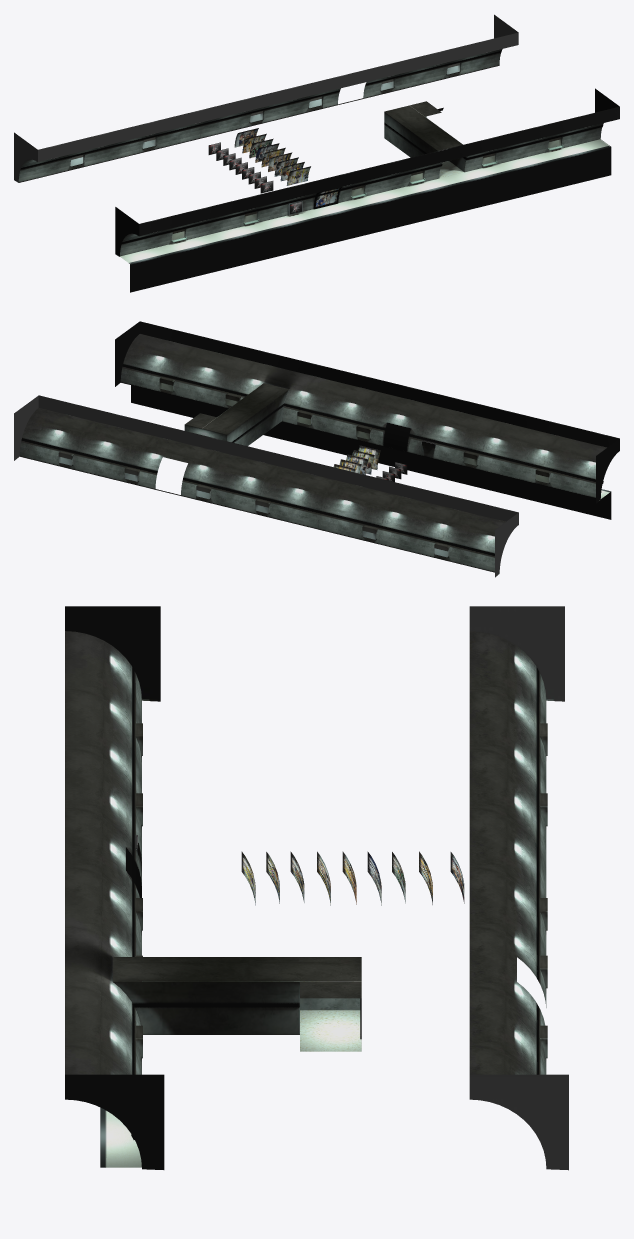
File: anden.gltf
3 views of the same model, one above another, from view 1: azimuth 30°, elevation 25°; view 2: azimuth 150°, elevation 25°; view 3: azimuth 270°, elevation 25° (orthographic). The views are drawn at different scales.
Visible parts, largest first — view 1: anden, pared-sin-cartel, pared, pasillo, soportes; view 2: pared-sin-cartel, pared, anden, pasillo; view 3: pared-sin-cartel, pared, pasillo, anden.
Part boxes in pixels (bbox=[...]): anden: bbox=[120, 139, 611, 292]; pared-sin-cartel: bbox=[14, 14, 518, 182]; pared: bbox=[115, 88, 619, 256]; pasillo: bbox=[384, 101, 467, 178]; soportes: bbox=[121, 107, 603, 243]; pared-sin-cartel: bbox=[14, 395, 518, 577]; pared: bbox=[115, 321, 619, 503]; anden: bbox=[131, 385, 611, 519]; pasillo: bbox=[184, 383, 288, 446]; pared-sin-cartel: bbox=[469, 606, 568, 1170]; pared: bbox=[65, 606, 164, 1169]; pasillo: bbox=[112, 957, 361, 1051]; anden: bbox=[100, 1107, 141, 1167].
Size of the model in its own units: 400 by 59.7 by 182.
Materials: 28 (26 with a texture image).
